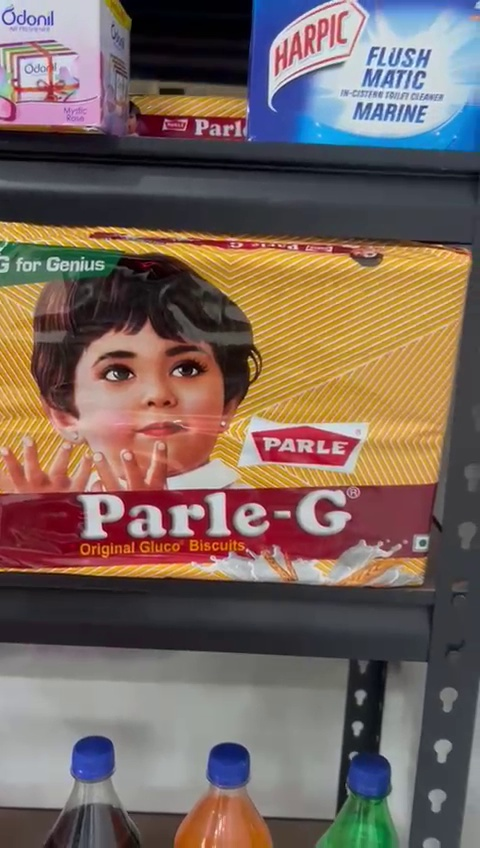Parle-G: (0, 229, 435, 586)
